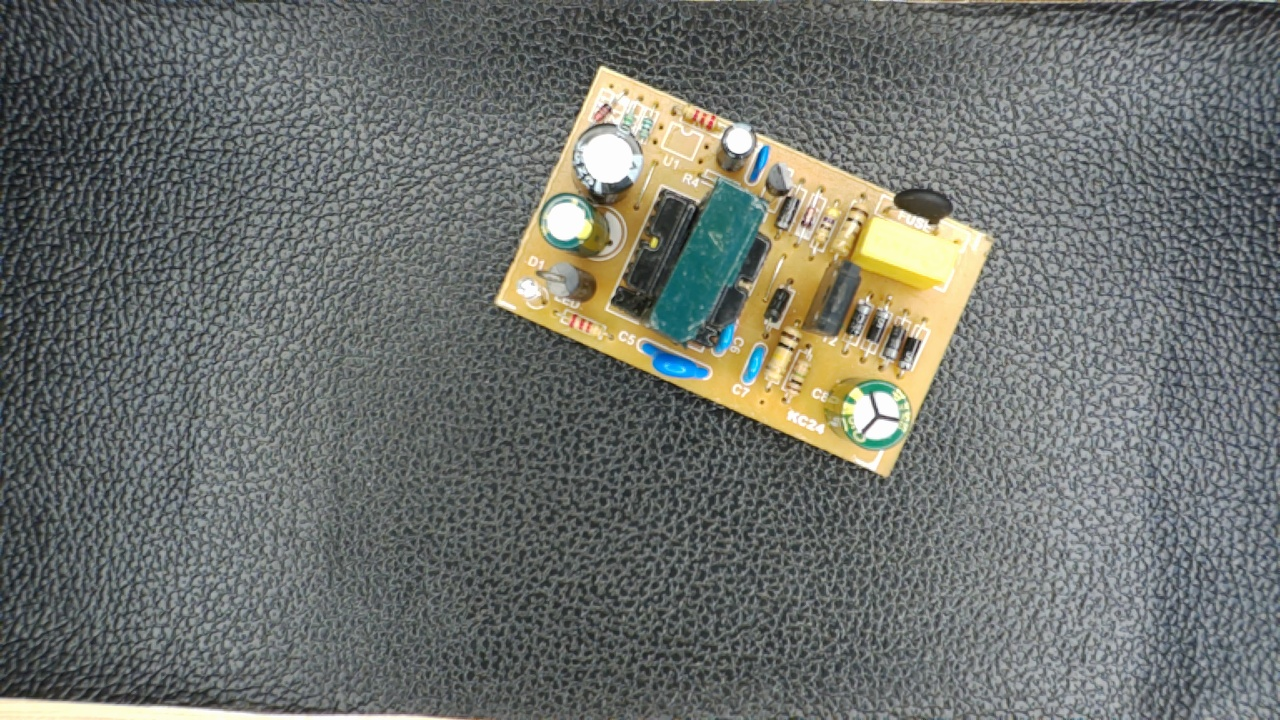fuse: (878, 183, 957, 239)
hv_capacitor: (819, 377, 912, 452)
mov: (633, 336, 717, 387)
